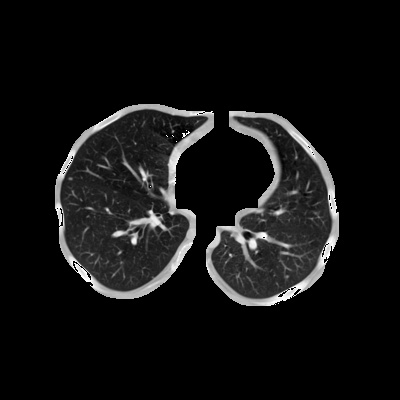PN: (68, 176, 72, 180)
